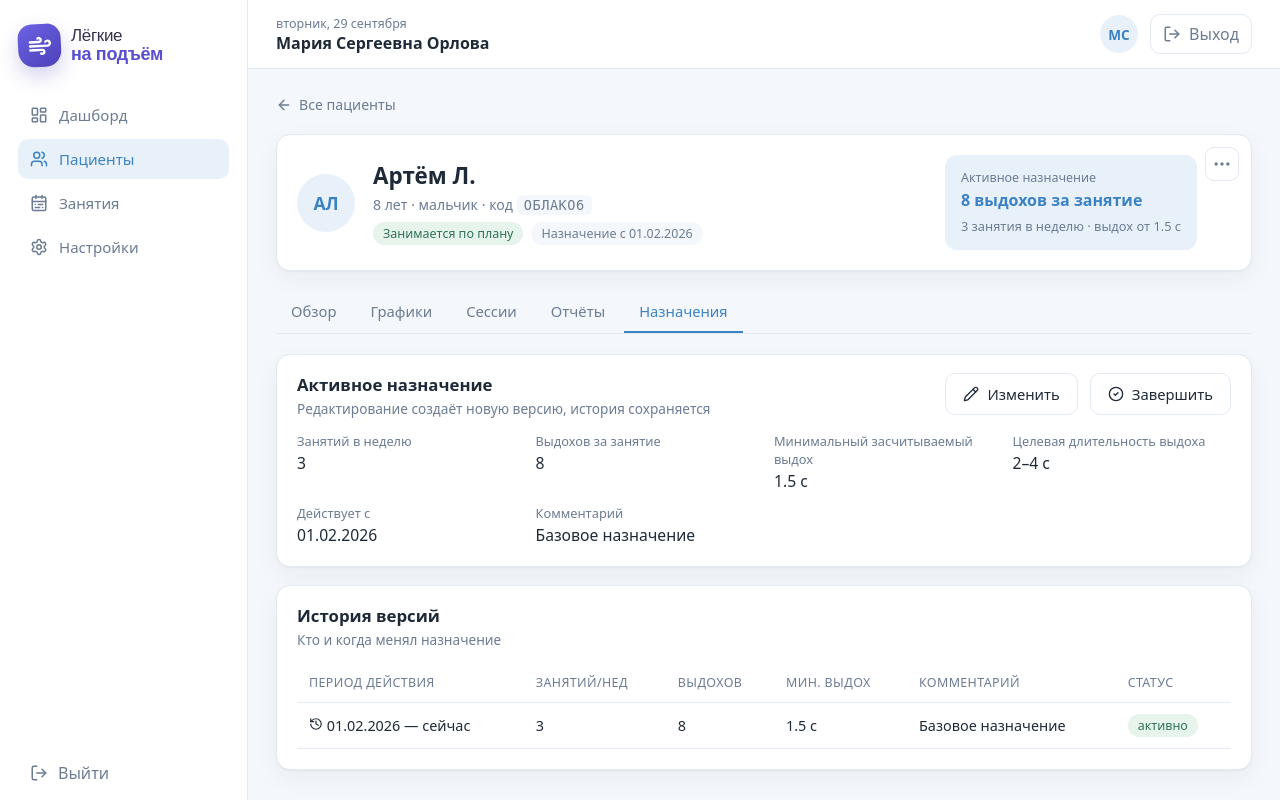
Test case: Карточка ребёнка: шапка и вкладки › вкладка «Назначения» показывает историю версий и форму редактирования
The width and height of the screenshot is (1280, 800).
Expected: the heading "История версий" is shown, [297,604,440,627]
Click the button "Изменить" at (1012, 394), box [945,373,1078,415]
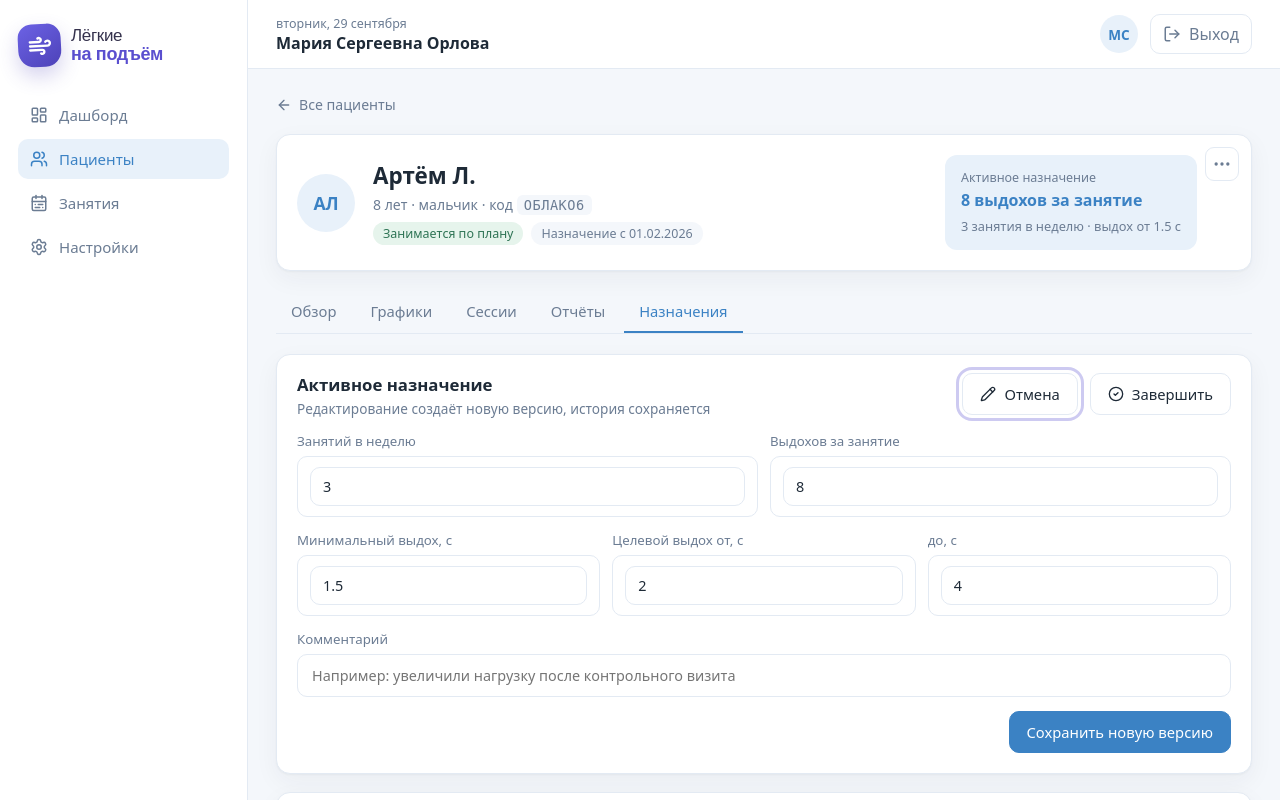
Now the button "Сохранить новую версию" is shown, box [1008,711,1231,753]
